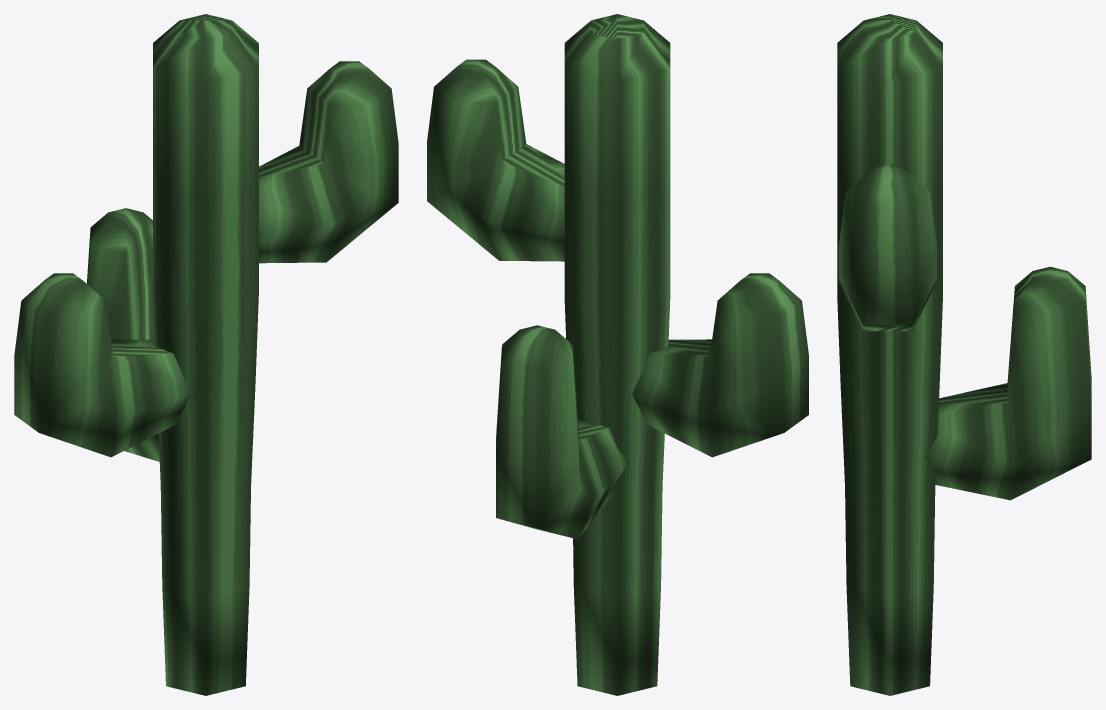
File: Cactus_2.FBX
The picture shows the model from 3 angles, left to right: view 1: azimuth 30°, elevation 25°; view 2: azimuth 150°, elevation 25°; view 3: azimuth 270°, elevation 25°; orthographic projection.
Visible parts, largest first — view 1: Cactus_2; view 2: Cactus_2; view 3: Cactus_2.
Boxes of the visible parts, bbox=[...] form: Cactus_2: bbox=[14, 14, 398, 695]; Cactus_2: bbox=[427, 14, 808, 695]; Cactus_2: bbox=[837, 14, 1091, 695].
Bounding box in the file's own units: 7.23 × 4.45 × 12.65.
